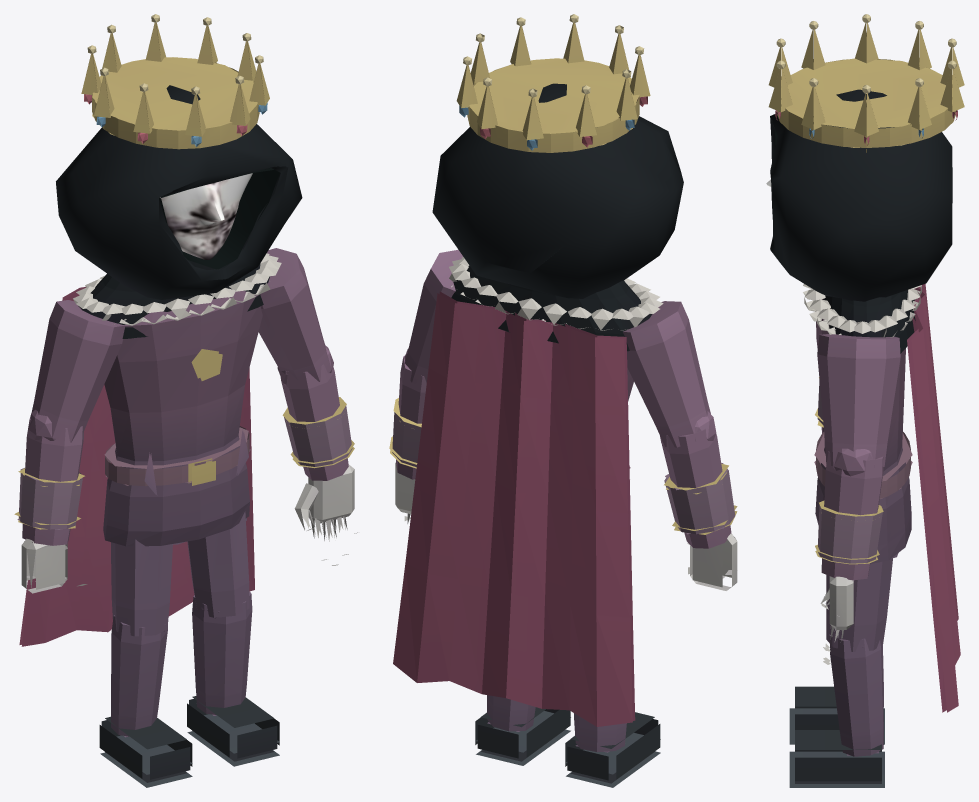
The model's file is HoodedStrangerKing.glb.
3 renders of one model, left to right at view 1: azimuth 30°, elevation 25°; view 2: azimuth 150°, elevation 25°; view 3: azimuth 270°, elevation 25°, orthographic. The views are drawn at different scales.
Parts seen in each view (by area): view 1: Body, Head, ArmR, ArmL, LegR, LegL, HeadFace; view 2: Body, Head, ArmR, ArmL, LegR, LegL; view 3: Head, ArmL, Body, LegL, LegR.
Part boxes in pixels (<box>): Body: <box>19,253,281,646</box>; Head: <box>56,14,302,338</box>; ArmR: <box>14,300,124,593</box>; ArmL: <box>258,248,357,565</box>; LegR: <box>99,539,192,787</box>; LegL: <box>187,511,279,766</box>; HeadFace: <box>160,173,252,259</box>; Body: <box>393,257,663,726</box>; Head: <box>432,14,683,351</box>; ArmR: <box>623,301,737,590</box>; ArmL: <box>389,249,463,523</box>; LegR: <box>565,712,660,787</box>; LegL: <box>475,695,570,765</box>; Head: <box>768,14,964,353</box>; ArmL: <box>815,334,900,664</box>; Body: <box>803,283,960,712</box>; LegL: <box>789,558,892,787</box>; LegR: <box>789,575,884,744</box>.
Size of the model in its own units: 3.71 by 7.44 by 1.9.
Materials: 2 (1 with a texture image).
